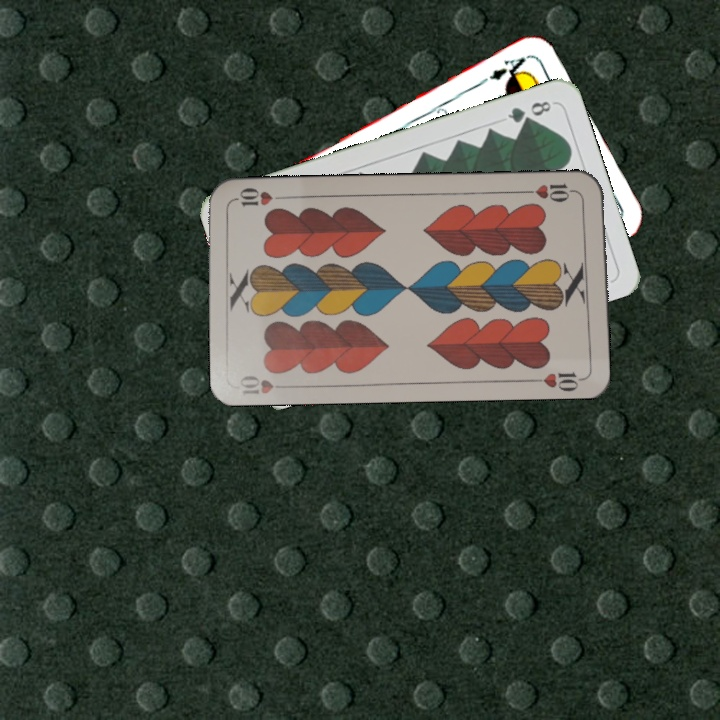EA: (476, 52, 530, 88)
G8: (503, 96, 557, 126)
H10: (521, 179, 580, 205), (236, 371, 294, 397)
